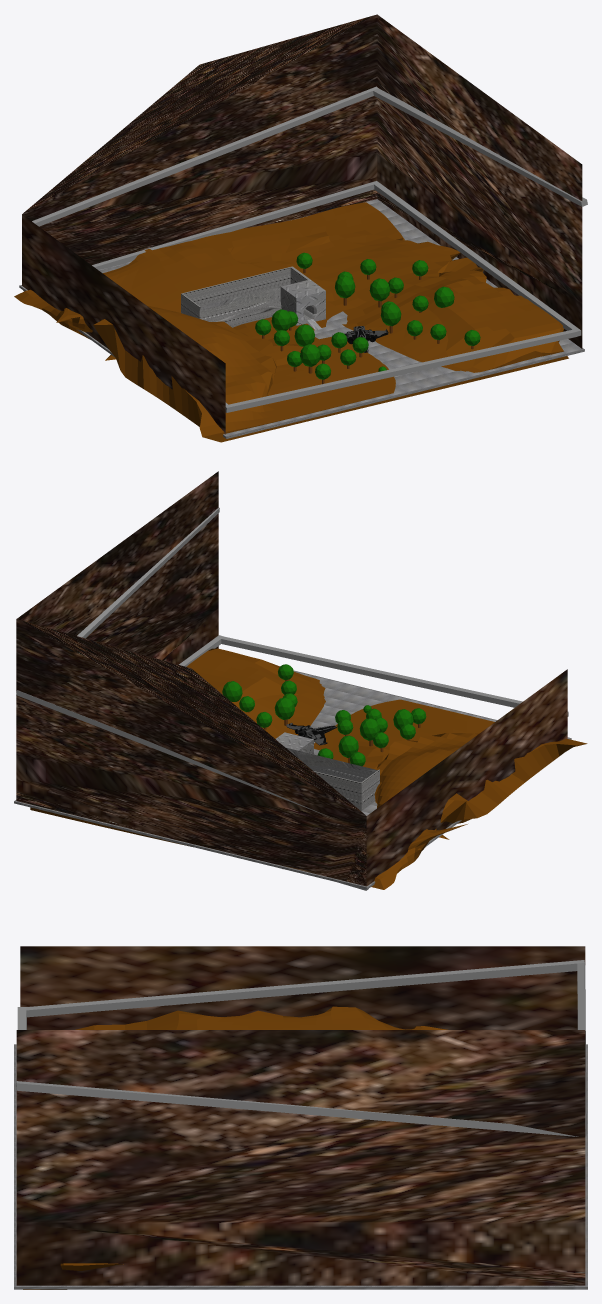
File: untitled_teszt.glb
3 renders of one model, top to bottom at view 1: azimuth 30°, elevation 25°; view 2: azimuth 150°, elevation 25°; view 3: azimuth 270°, elevation 25°, orthographic. The views are drawn at different scales.
Visible parts, largest first — view 1: earthside, BottomEarth, aroundstairs, Cube, Floor; view 2: earthside, BottomEarth, aroundstairs, Floor, Cube; view 3: earthside, aroundstairs, BottomEarth, Floor.
Part boxes in pixels (x1,y1,x2,y2): earthside: (22,14,582,434); BottomEarth: (14,202,568,442); aroundstairs: (23,86,587,412); Cube: (181,266,325,330); Floor: (19,199,584,438); earthside: (16,471,567,886); BottomEarth: (30,648,587,889); aroundstairs: (16,507,568,890); Floor: (14,670,571,889); Cube: (276,732,379,811); earthside: (16,946,585,1285); aroundstairs: (16,960,586,1136); BottomEarth: (23,1006,447,1289); Floor: (14,1044,587,1289).
Bounding box in the file's own units: 162 × 98.72 × 147.
Materials: 61 (3 with a texture image).
